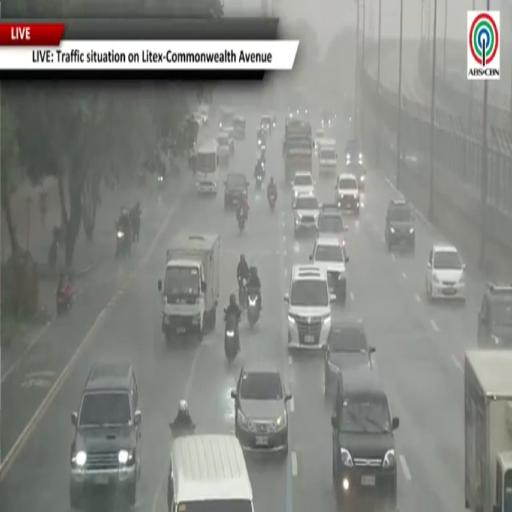car: (69, 362, 141, 509), (332, 367, 399, 511), (167, 435, 253, 511), (231, 362, 291, 454), (324, 319, 375, 396), (285, 265, 331, 349), (310, 236, 348, 303), (426, 245, 465, 300), (478, 283, 511, 348), (385, 200, 415, 250), (318, 204, 348, 250), (334, 173, 360, 215), (294, 194, 320, 235), (224, 172, 248, 209), (291, 171, 315, 206), (318, 139, 337, 175), (346, 163, 366, 190), (345, 140, 363, 166), (217, 132, 230, 165), (219, 108, 235, 130), (225, 126, 235, 154), (234, 116, 245, 140), (315, 128, 326, 152), (322, 110, 336, 127), (261, 115, 272, 133), (257, 128, 266, 149), (200, 105, 209, 125), (271, 112, 277, 129)
motorcycle: (225, 310, 239, 362), (56, 283, 74, 314), (116, 228, 131, 257), (248, 291, 260, 327), (170, 423, 195, 438), (239, 278, 247, 309), (237, 208, 245, 233), (268, 192, 276, 211), (256, 174, 263, 189), (158, 174, 164, 189)
truck: (465, 349, 511, 511), (158, 233, 220, 342), (283, 119, 314, 182), (196, 140, 219, 194)
